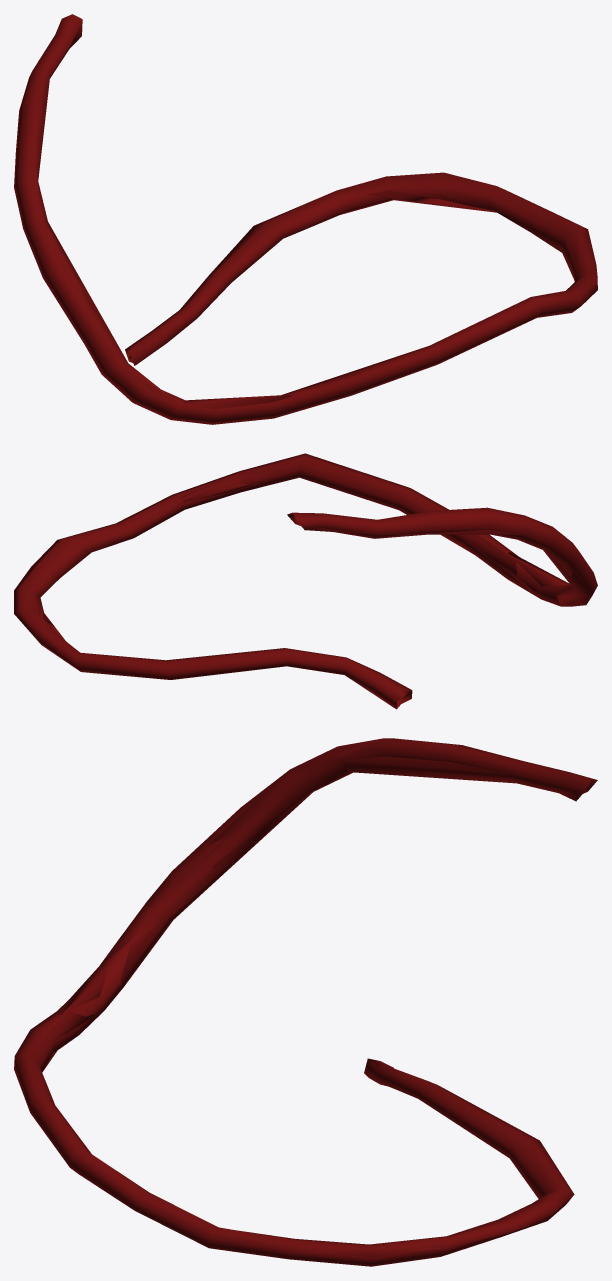
The model's file is L arteria circumflexa humeri.fbx.
3 views of the same model, one above another, from view 1: azimuth 30°, elevation 25°; view 2: azimuth 150°, elevation 25°; view 3: azimuth 270°, elevation 25° (orthographic). The views are drawn at different scales.
Parts seen in each view (by area): view 1: L arteria circumflexa humeri, L arteria circumflexa humeri low; view 2: L arteria circumflexa humeri, L arteria circumflexa humeri low; view 3: L arteria circumflexa humeri, L arteria circumflexa humeri low.
Boxes of the visible parts, x1=… form: L arteria circumflexa humeri: x1=14, y1=14, x2=597, y2=424; L arteria circumflexa humeri low: x1=18, y1=15, x2=597, y2=416; L arteria circumflexa humeri: x1=14, y1=453, x2=597, y2=709; L arteria circumflexa humeri low: x1=14, y1=456, x2=591, y2=708; L arteria circumflexa humeri: x1=14, y1=738, x2=597, y2=1266; L arteria circumflexa humeri low: x1=28, y1=739, x2=590, y2=1258.
Bounding box in the file's own units: 11.56 × 5.43 × 8.96.
